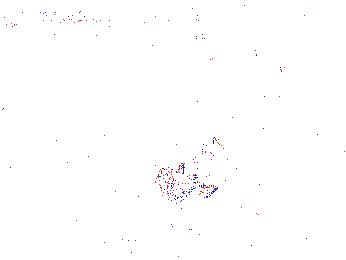flame jellyfish: (184, 136, 267, 223), (138, 159, 219, 241)
